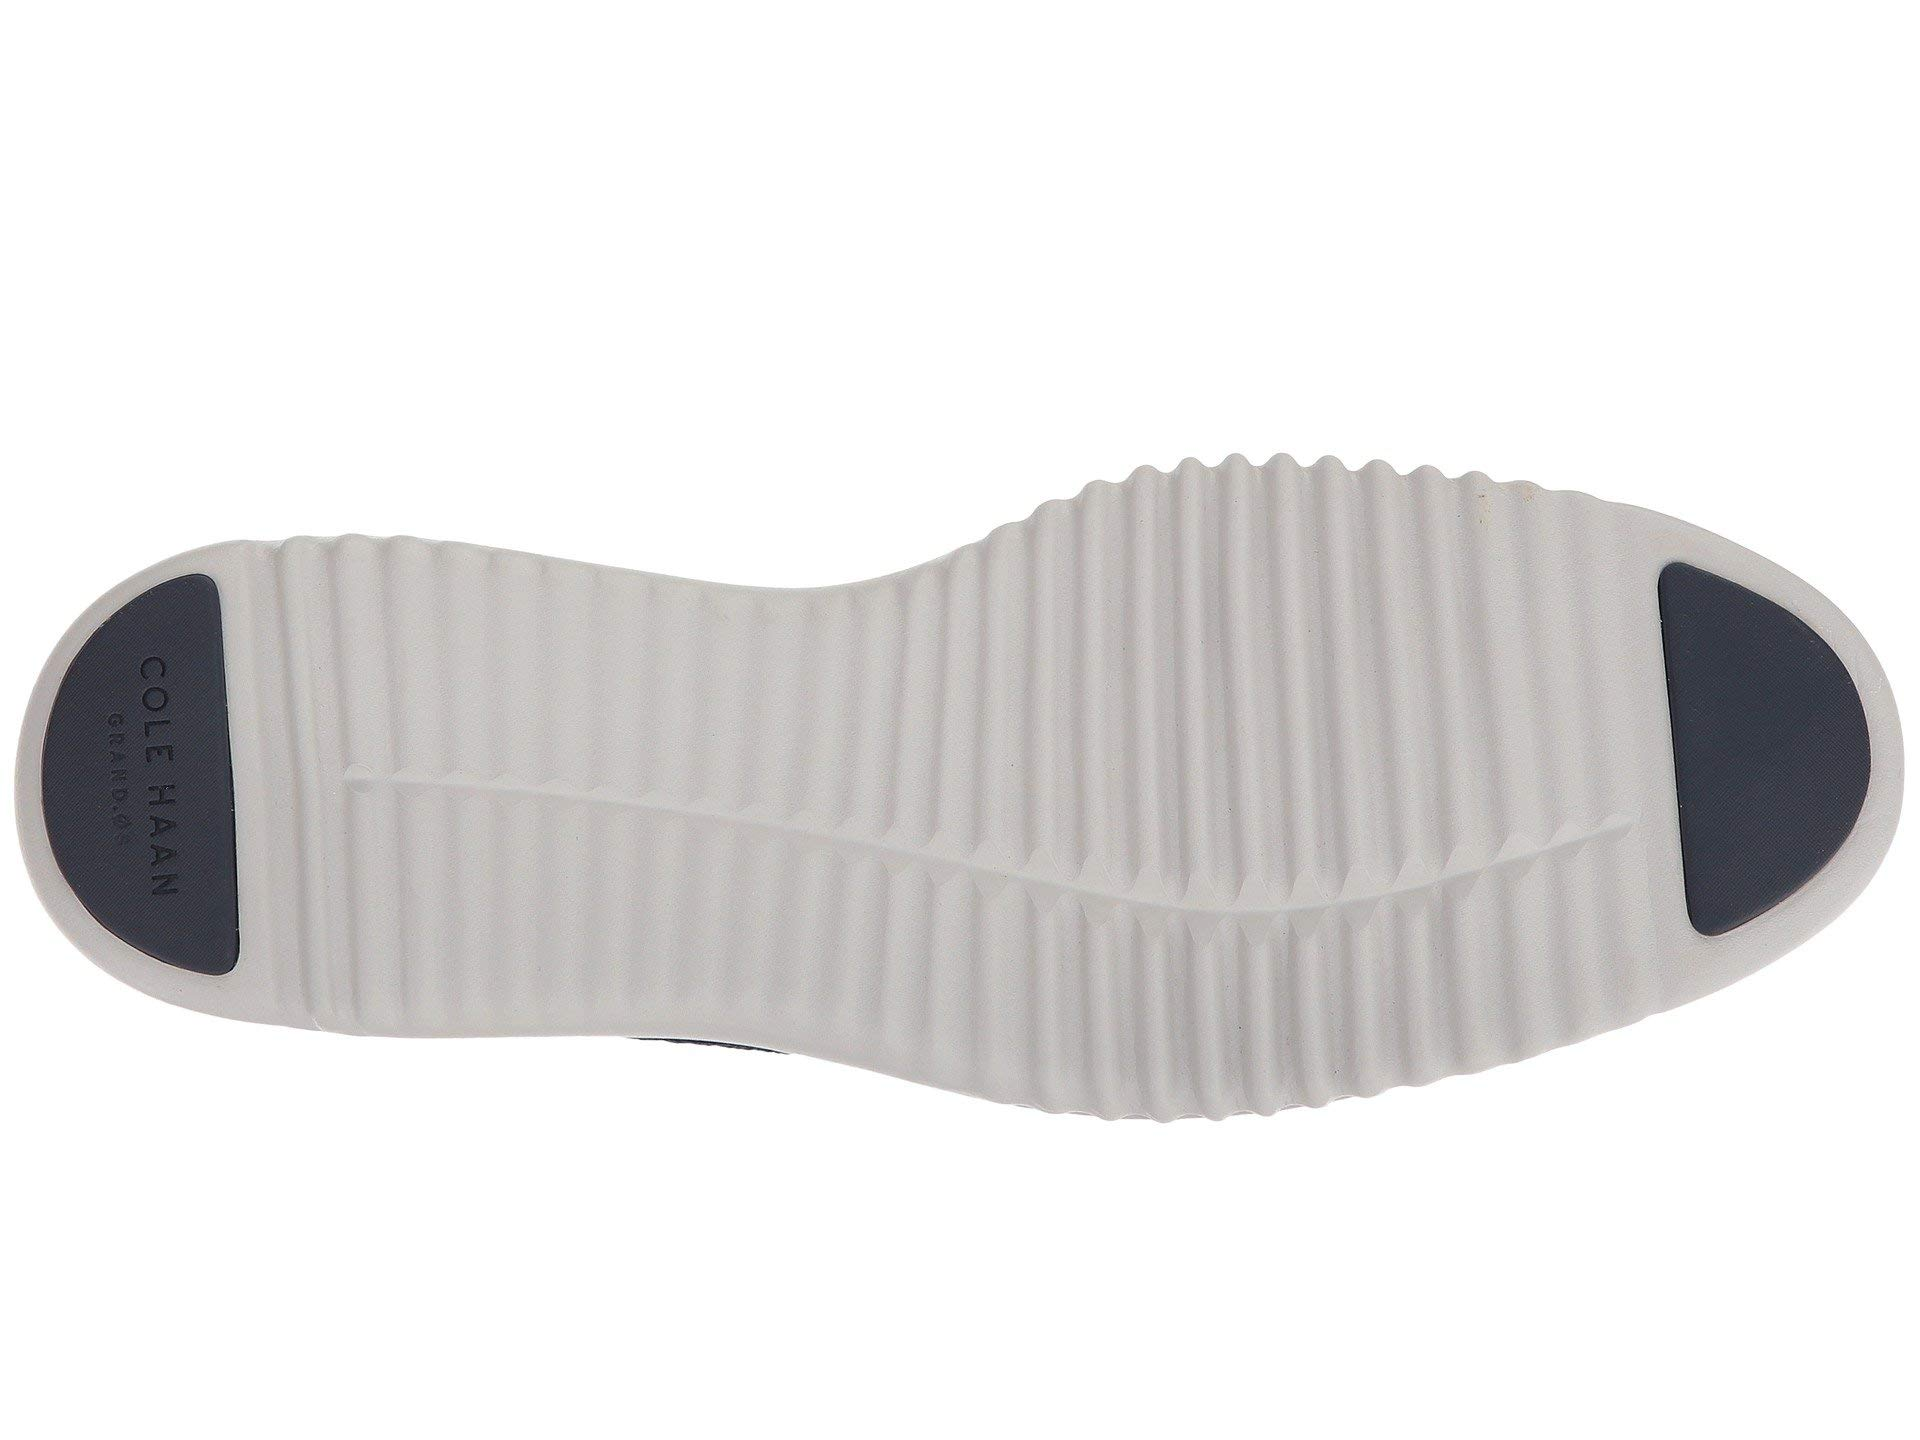circle: (57, 634, 222, 929)
line: (314, 572, 1612, 977)
text: (57, 634, 222, 929)
